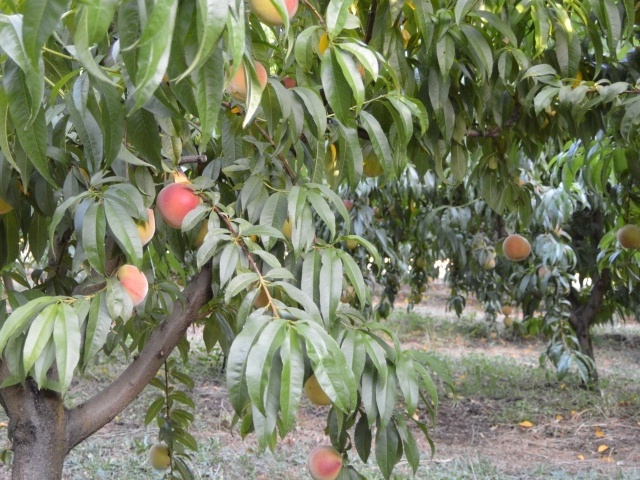peach: (154, 179, 207, 234), (222, 56, 271, 103), (110, 262, 154, 309), (304, 442, 348, 479), (245, 1, 300, 27), (302, 370, 337, 410), (128, 207, 161, 247), (499, 229, 534, 265), (145, 440, 175, 472), (614, 222, 640, 252)
